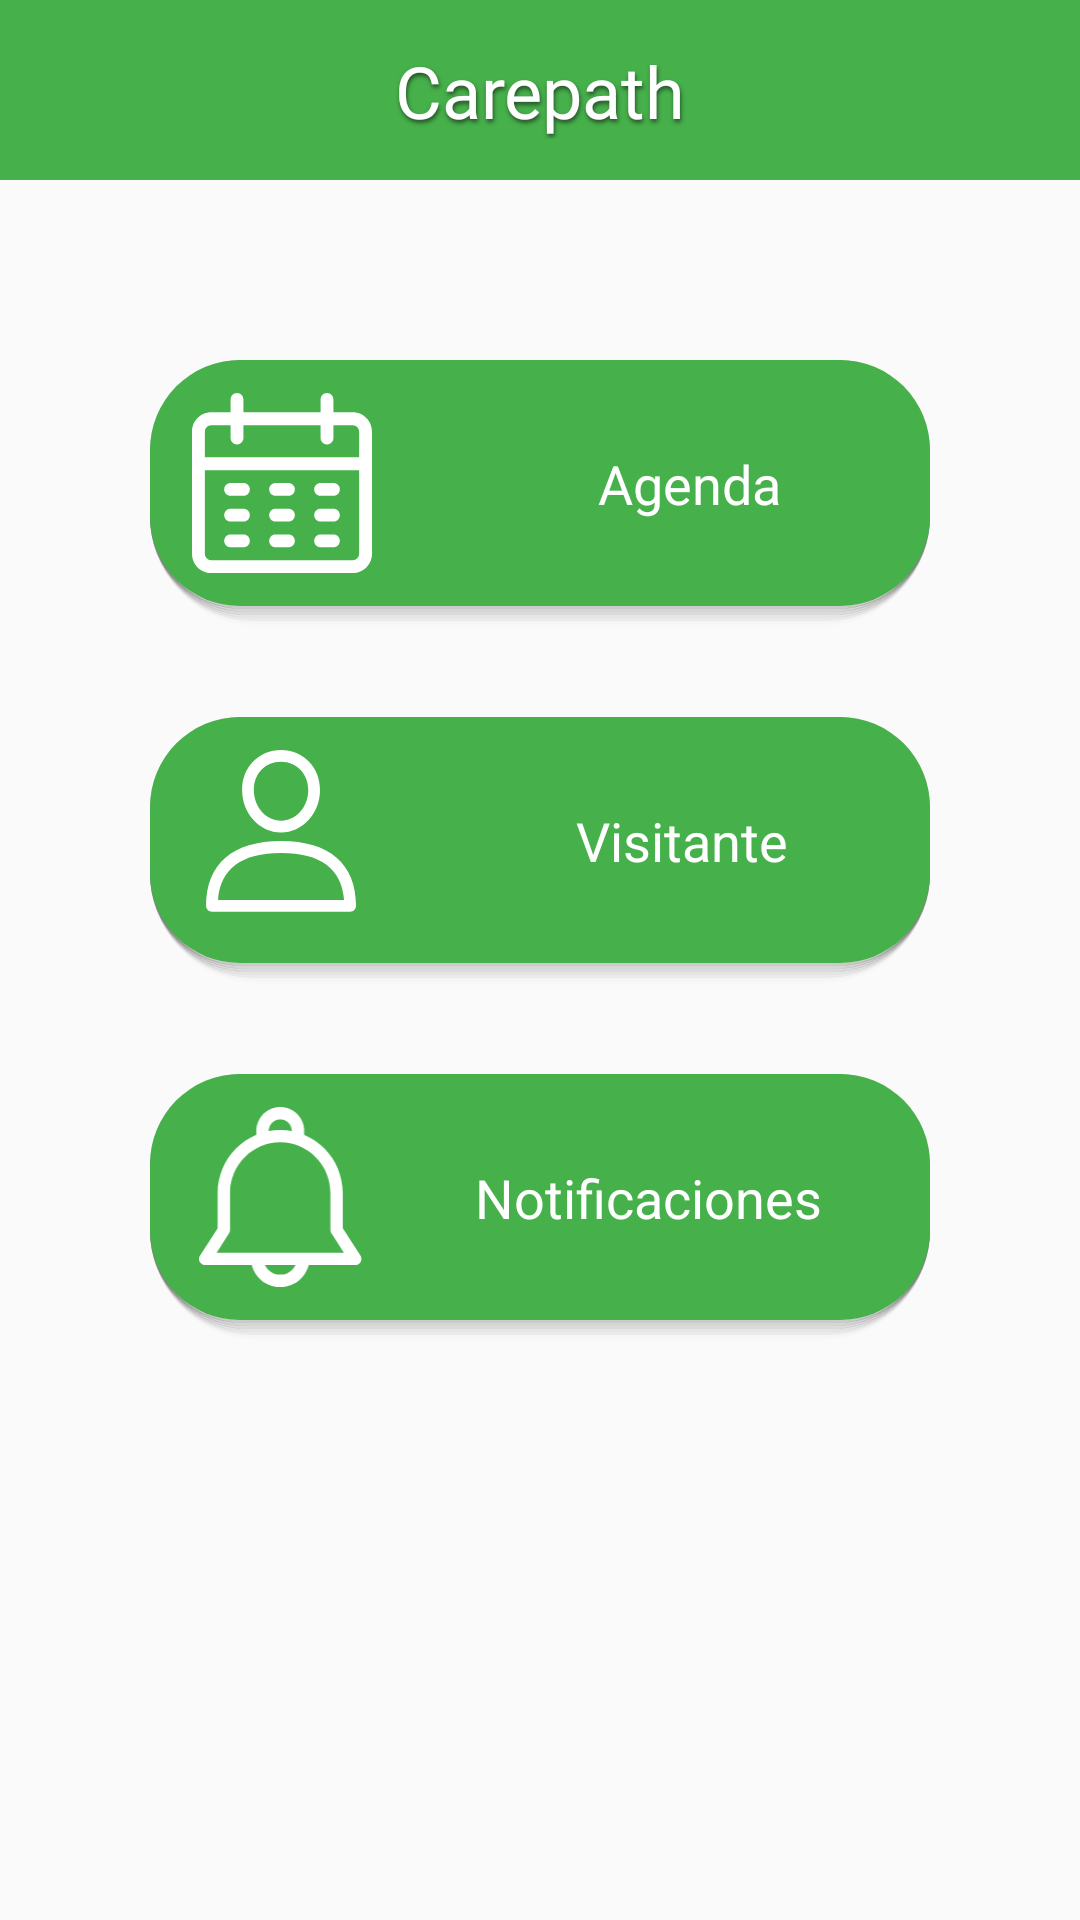

Named icons in this screenshot (1080px×1920px) and their bounding boxes, (x1, y1, x2, y2):
categorieschedule: (192, 393, 372, 573)
categorievisitors: (206, 750, 356, 912)
